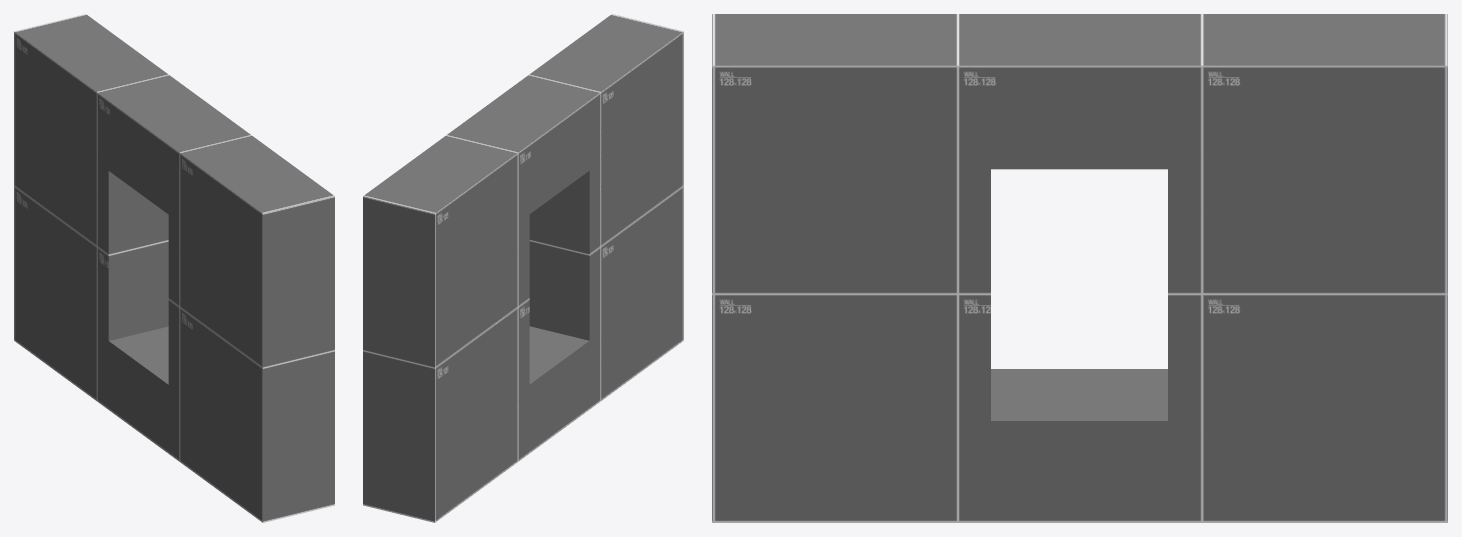
File: WallWindow.fbx
3 views of the same model, side by side, from view 1: azimuth 30°, elevation 25°; view 2: azimuth 150°, elevation 25°; view 3: azimuth 270°, elevation 25° (orthographic). The views are drawn at different scales.
Visible parts, largest first — view 1: WallWindow; view 2: WallWindow; view 3: WallWindow.
Boxes of the visible parts, x1,y1,x2,y2 form: WallWindow: [14, 14, 334, 522]; WallWindow: [363, 14, 683, 522]; WallWindow: [712, 14, 1447, 522].
Size of the model in its own units: 1.24 by 5.11 by 7.46.
